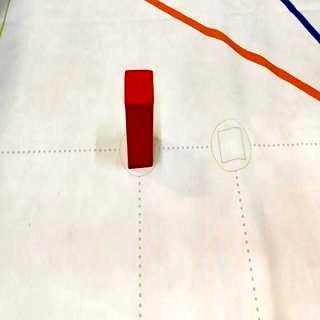redbox: (124, 70, 154, 168)
